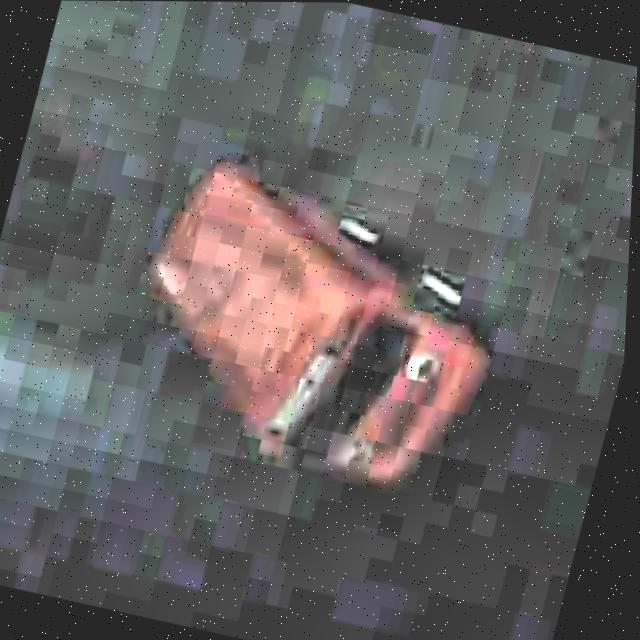bus: (83, 128, 548, 512)
